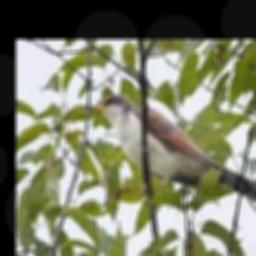Cuckoo: (86, 93, 256, 210)
